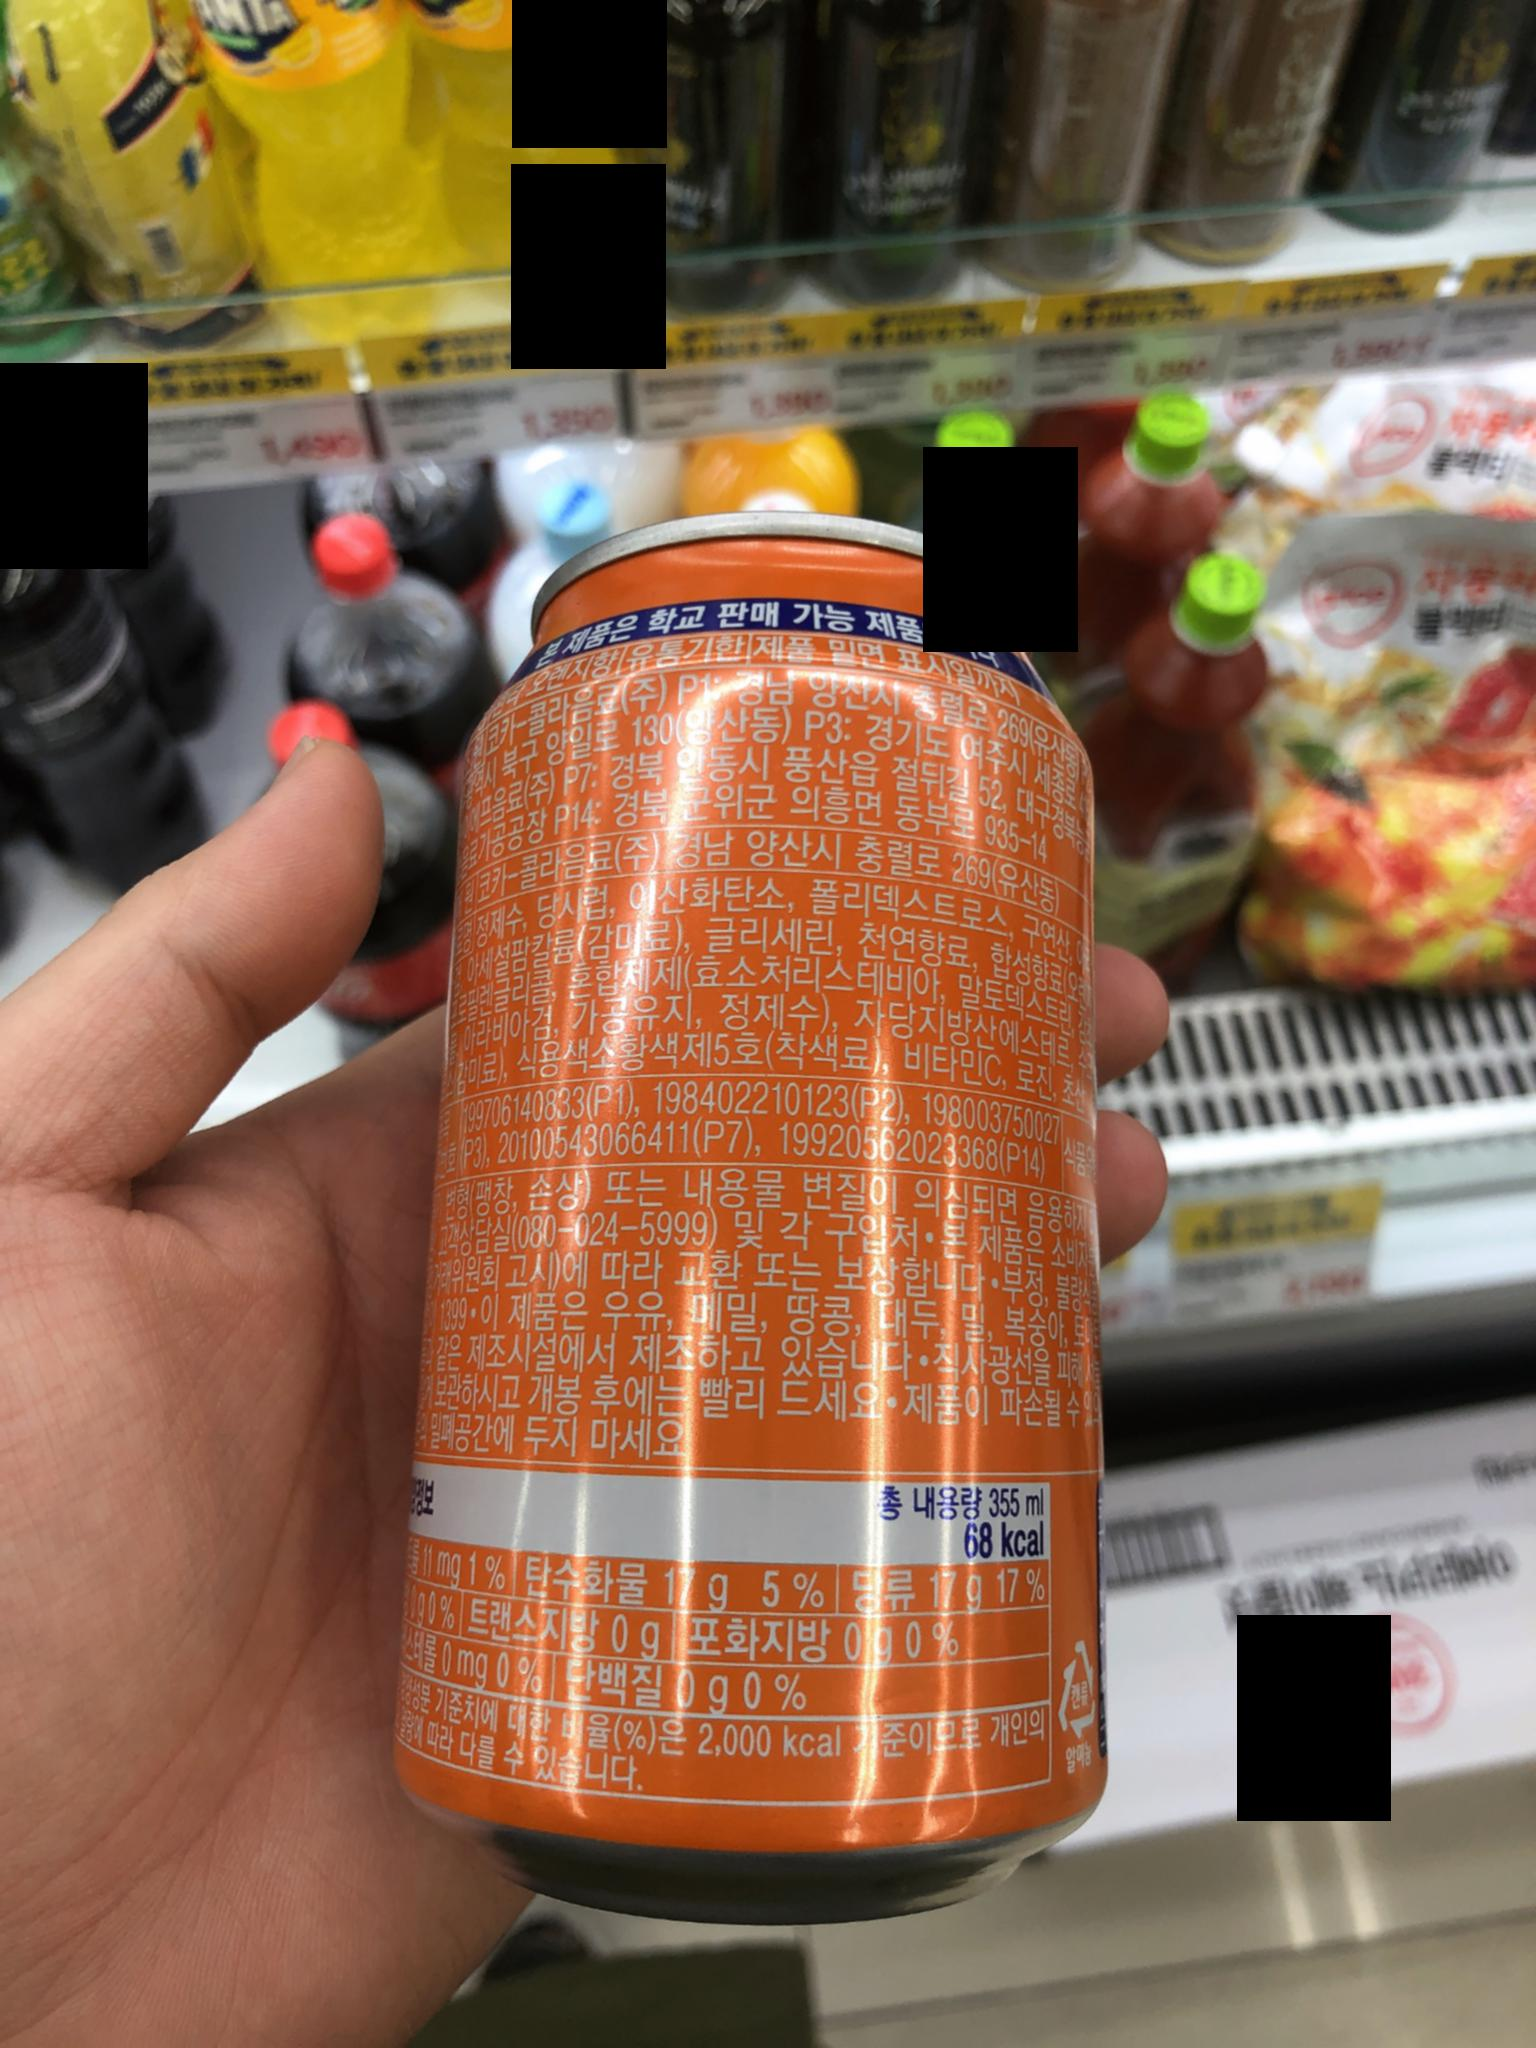fanta_orange: (329, 490, 1208, 1932)
